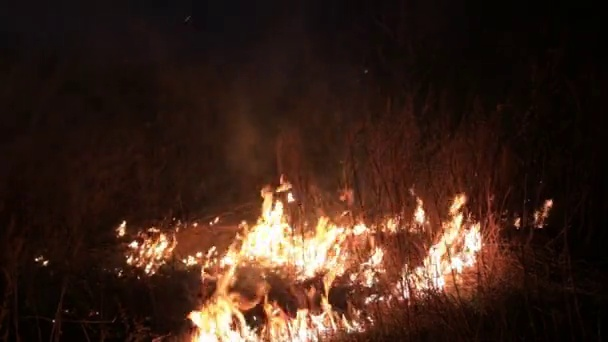fire: (186, 193, 483, 342), (116, 220, 174, 272), (537, 196, 551, 227)
